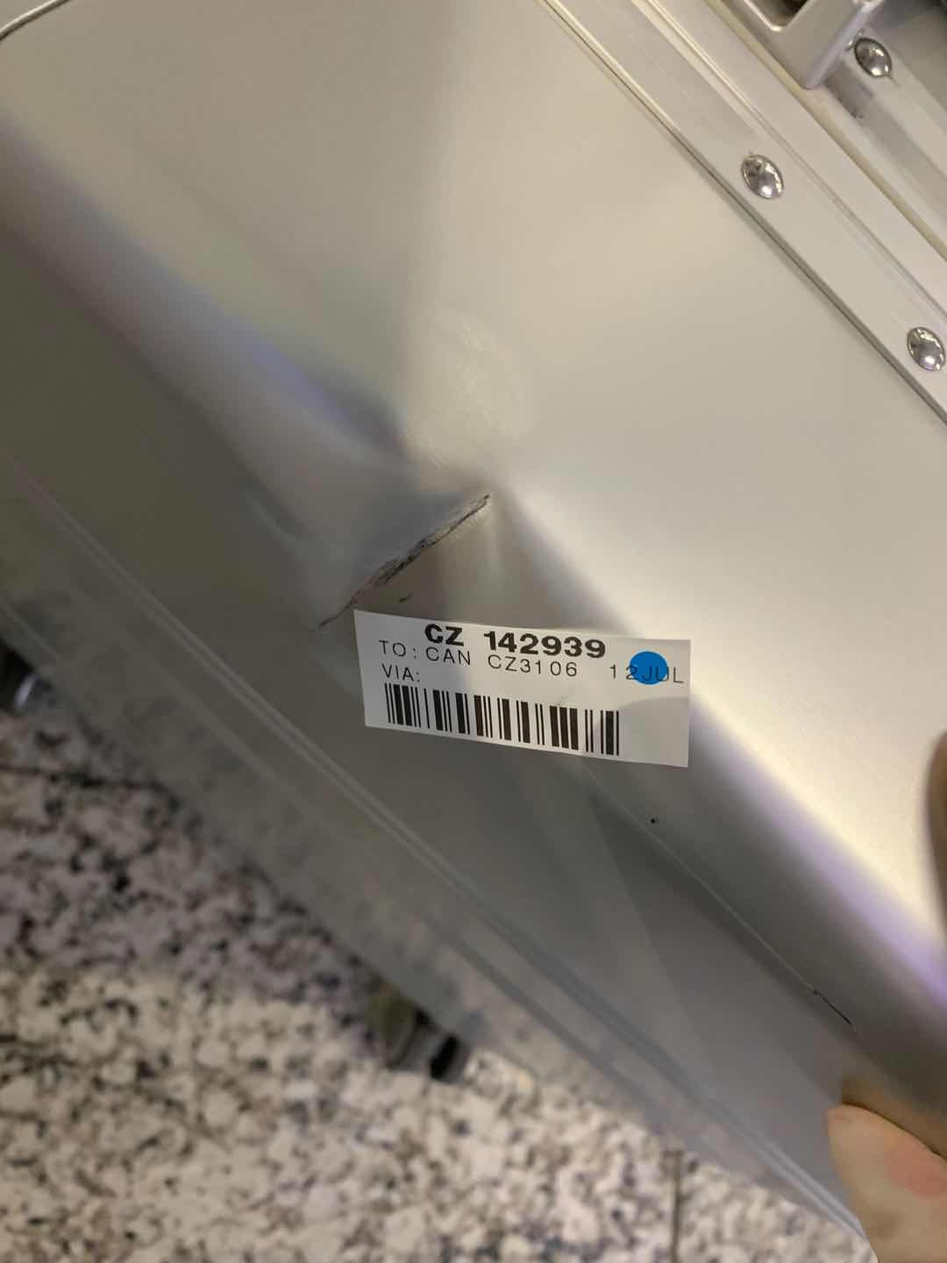rupture: (251, 384, 566, 698)
scratch: (316, 493, 493, 631)
